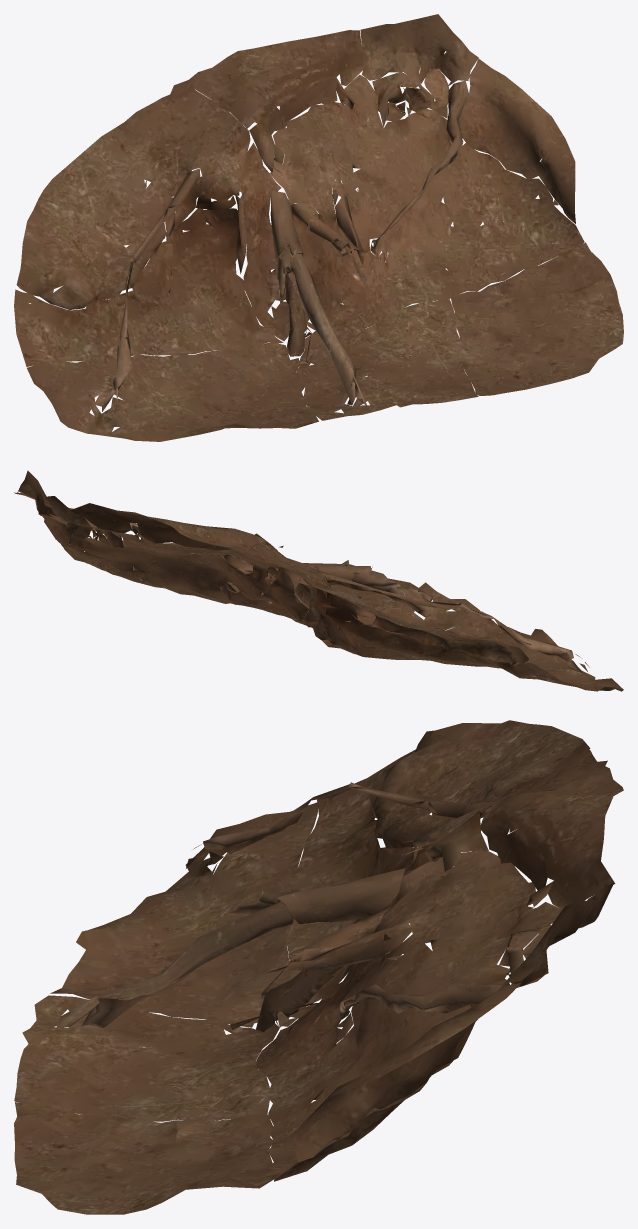
File: root_cluster_01.glb
3 renders of one model, top to bottom at view 1: azimuth 30°, elevation 25°; view 2: azimuth 150°, elevation 25°; view 3: azimuth 270°, elevation 25°, orthographic. The views are drawn at different scales.
Visible parts, largest first — view 1: root_cluster_01; view 2: root_cluster_01; view 3: root_cluster_01.
Boxes of the visible parts, x1=… form: root_cluster_01: x1=14, y1=14, x2=623, y2=441; root_cluster_01: x1=14, y1=470, x2=623, y2=691; root_cluster_01: x1=14, y1=720, x2=623, y2=1214.
Size of the model in its own units: 4.12 by 1.5 by 2.68.
Materials: 1 (1 with a texture image).
